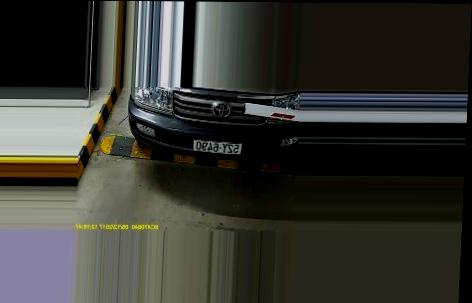License_Plate: (191, 137, 245, 155)
